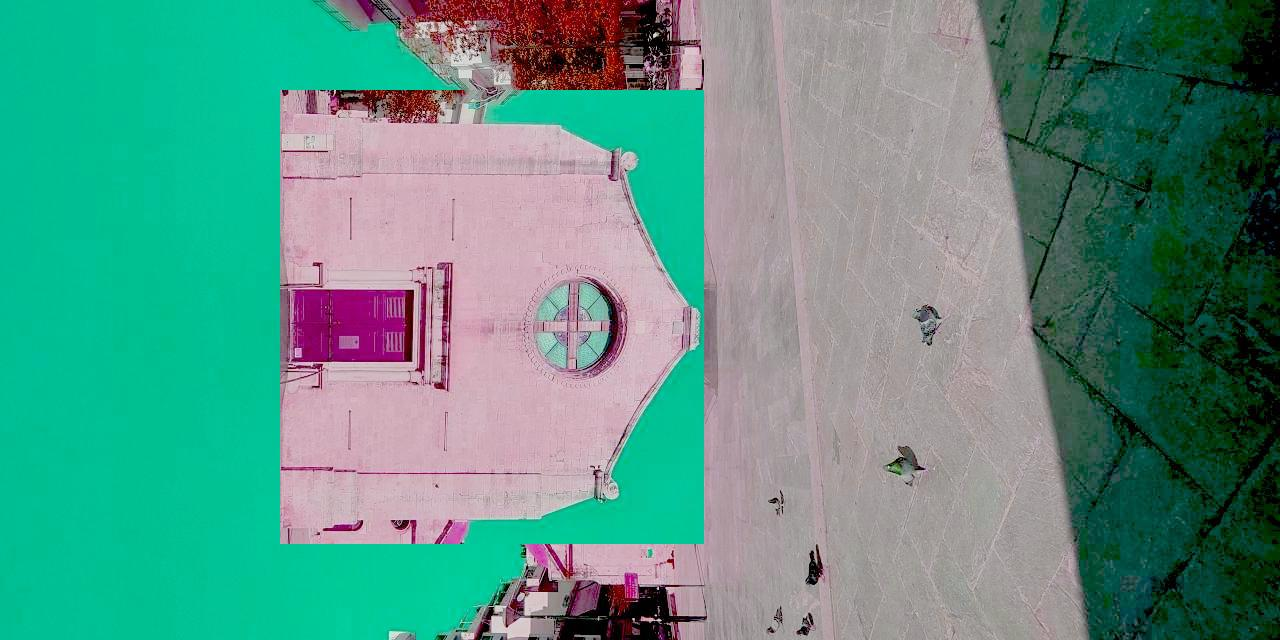Agia Aikaterini: (281, 91, 705, 545)
